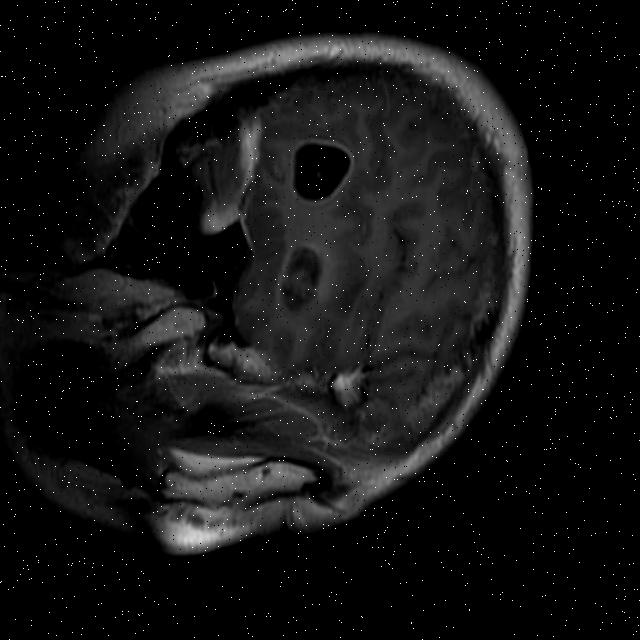Glioma: (289, 137, 357, 204), (276, 246, 324, 315)
